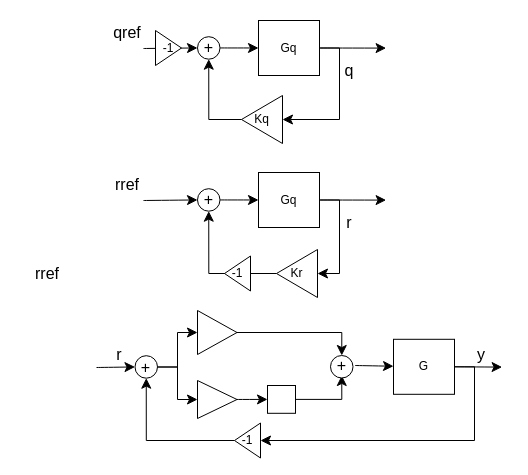
Some shapes in this 528 by 475 pixel diagram are drawn without their labels. Each missing label, with the centre of its shape:
"1/s" belongs at (281,398).
"KI" belongs at (216,399).
"Kp" belongs at (216,332).
